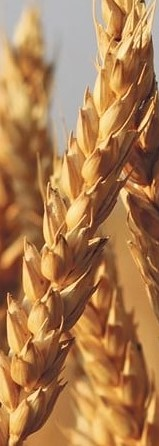Healthy Wheat: (9, 22, 150, 426)
